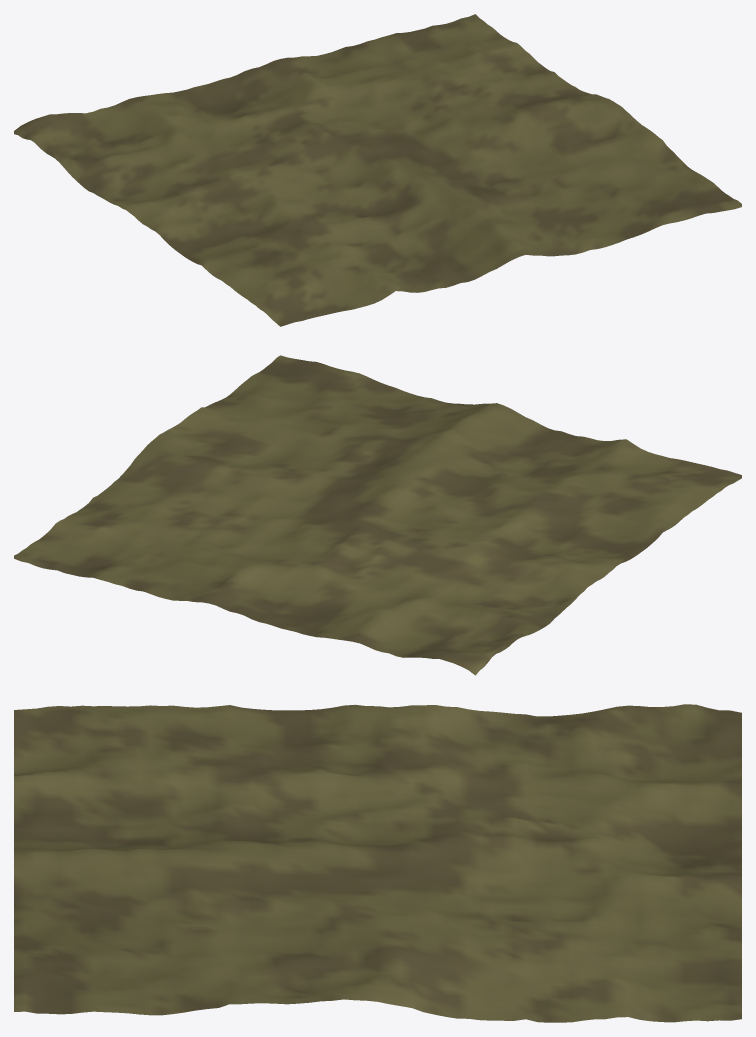
File: land_f_08_05.glb
The picture shows the model from 3 angles, top to bottom: view 1: azimuth 30°, elevation 25°; view 2: azimuth 150°, elevation 25°; view 3: azimuth 270°, elevation 25°; orthographic projection. The views are drawn at different scales.
Parts seen in each view (by area): view 1: land_f_08_05; view 2: land_f_08_05; view 3: land_f_08_05.
Part boxes in pixels (box(x1,y1,x2,y2)): land_f_08_05: box(14, 14, 741, 326); land_f_08_05: box(14, 355, 741, 675); land_f_08_05: box(14, 704, 741, 1022).
Bounding box in the file's own units: 3840 × 206 × 3840.
